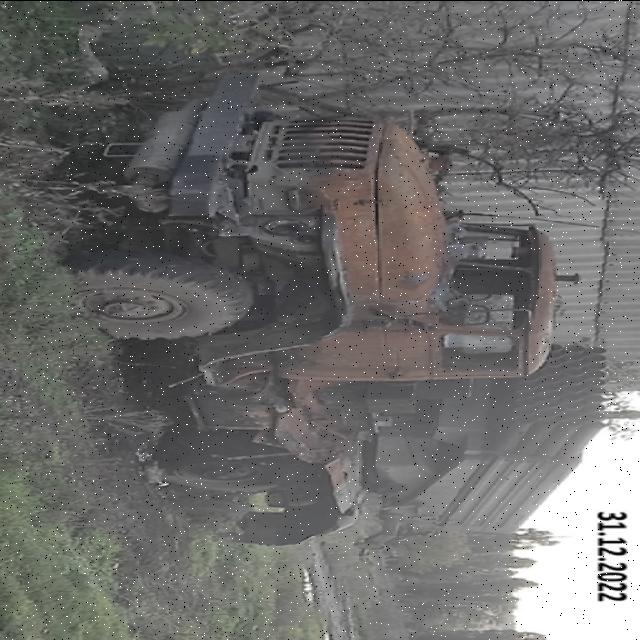MLRS: (69, 68, 609, 544)
